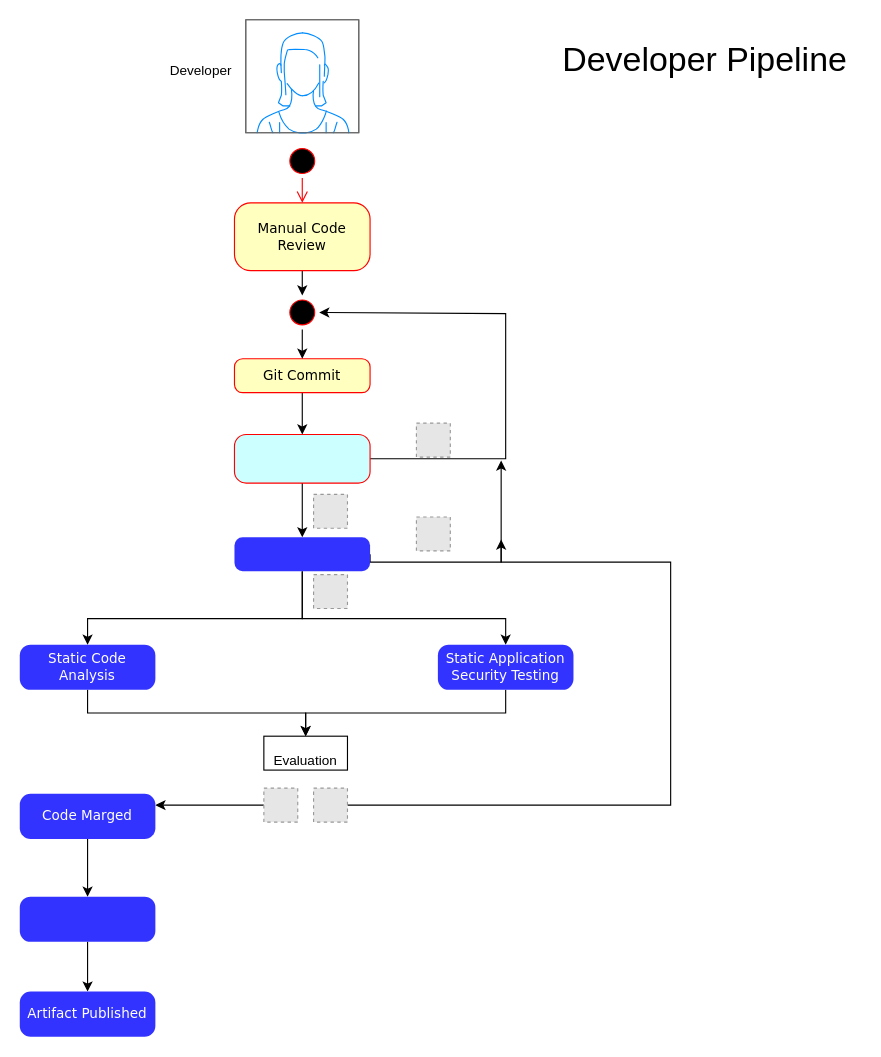
Some shapes in this 881 by 1057 pixel diagram are drawn without their labels. Grey dashed boxes stand in for pictures. The shapes that lost their labels are listed below. From the top down, each one's centre as x and y in pixels, then its label:
At point (301, 458): "Team Code Review".
At point (302, 554): "Unit Testing".
At point (87, 918): "Artifact version created".
